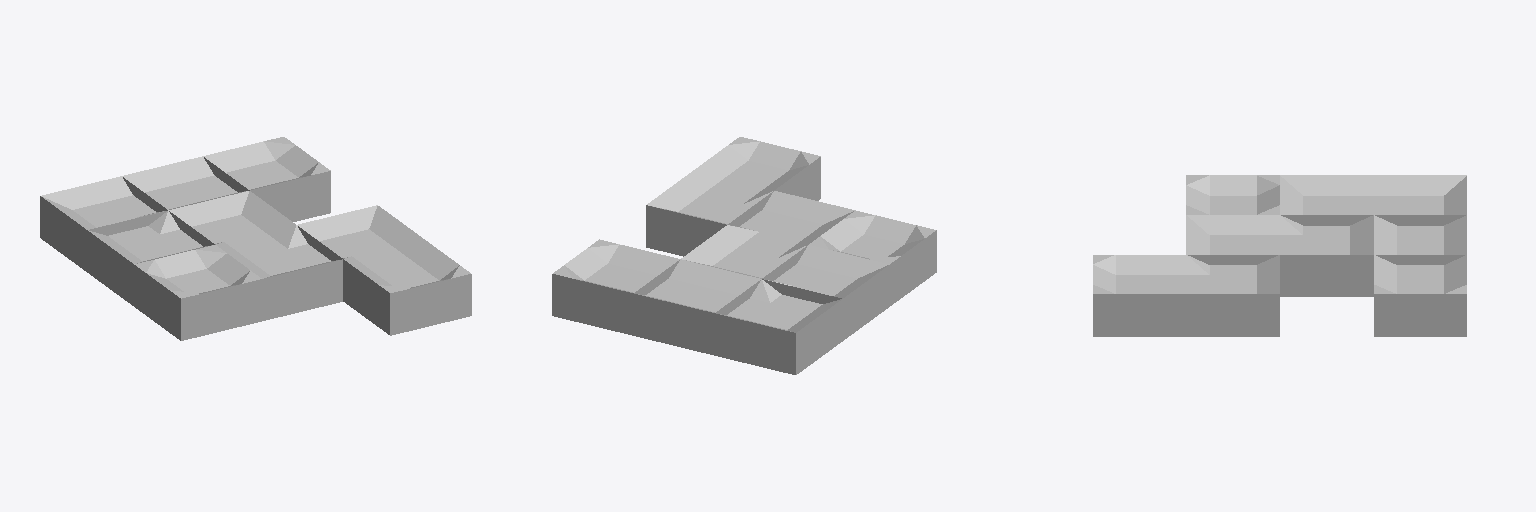
File: 37s_path.obj
3 views of the same model, side by side, from view 1: azimuth 30°, elevation 25°; view 2: azimuth 150°, elevation 25°; view 3: azimuth 270°, elevation 25° (orthographic).
Parts seen in each view (by area): view 1: hole.2.1_Cube.224, ending.4.0_ending.445, corner.3.1_corner.1103, ending.4.3_ending.446, corner.2.3_corner.1102, corner.2.2_corner.1101, corner.3.2_corner.1104, corner.4.1_corner.1105, through.3.3_through.233; view 2: corner.2.3_corner.1102, through.3.3_through.233, ending.4.3_ending.446, hole.2.1_Cube.224, corner.4.1_corner.1105, corner.2.2_corner.1101, ending.4.0_ending.445, corner.3.1_corner.1103, corner.3.2_corner.1104; view 3: ending.4.0_ending.445, corner.3.2_corner.1104, corner.4.1_corner.1105, ending.4.3_ending.446, through.3.3_through.233, corner.3.1_corner.1103, corner.2.2_corner.1101, hole.2.1_Cube.224, corner.2.3_corner.1102.
Boxes of the visible parts, x1=… form: hole.2.1_Cube.224: x1=134, y1=245, x2=261, y2=340; ending.4.0_ending.445: x1=343, y1=239, x2=471, y2=335; corner.3.1_corner.1103: x1=217, y1=225, x2=342, y2=320; ending.4.3_ending.446: x1=203, y1=137, x2=330, y2=221; corner.2.3_corner.1102: x1=40, y1=176, x2=166, y2=271; corner.2.2_corner.1101: x1=87, y1=210, x2=214, y2=305; corner.3.2_corner.1104: x1=169, y1=191, x2=295, y2=249; corner.4.1_corner.1105: x1=297, y1=205, x2=423, y2=264; through.3.3_through.233: x1=122, y1=156, x2=249, y2=211; corner.2.3_corner.1102: x1=715, y1=279, x2=842, y2=374; through.3.3_through.233: x1=634, y1=259, x2=760, y2=355; ending.4.3_ending.446: x1=552, y1=239, x2=679, y2=335; hole.2.1_Cube.224: x1=809, y1=210, x2=936, y2=305; corner.4.1_corner.1105: x1=646, y1=171, x2=772, y2=256; corner.2.2_corner.1101: x1=762, y1=245, x2=889, y2=340; ending.4.0_ending.445: x1=693, y1=137, x2=820, y2=200; corner.3.1_corner.1103: x1=728, y1=191, x2=854, y2=249; corner.3.2_corner.1104: x1=681, y1=225, x2=807, y2=280; ending.4.0_ending.445: x1=1093, y1=255, x2=1185, y2=336; corner.3.2_corner.1104: x1=1280, y1=215, x2=1373, y2=296; corner.4.1_corner.1105: x1=1186, y1=255, x2=1279, y2=336; ending.4.3_ending.446: x1=1374, y1=255, x2=1466, y2=336; through.3.3_through.233: x1=1374, y1=215, x2=1466, y2=264; corner.3.1_corner.1103: x1=1186, y1=215, x2=1279, y2=264; corner.2.2_corner.1101: x1=1280, y1=175, x2=1373, y2=225; hole.2.1_Cube.224: x1=1186, y1=175, x2=1279, y2=214; corner.2.3_corner.1102: x1=1374, y1=175, x2=1466, y2=214.
Size of the model in its own units: 6 by 1 by 8.